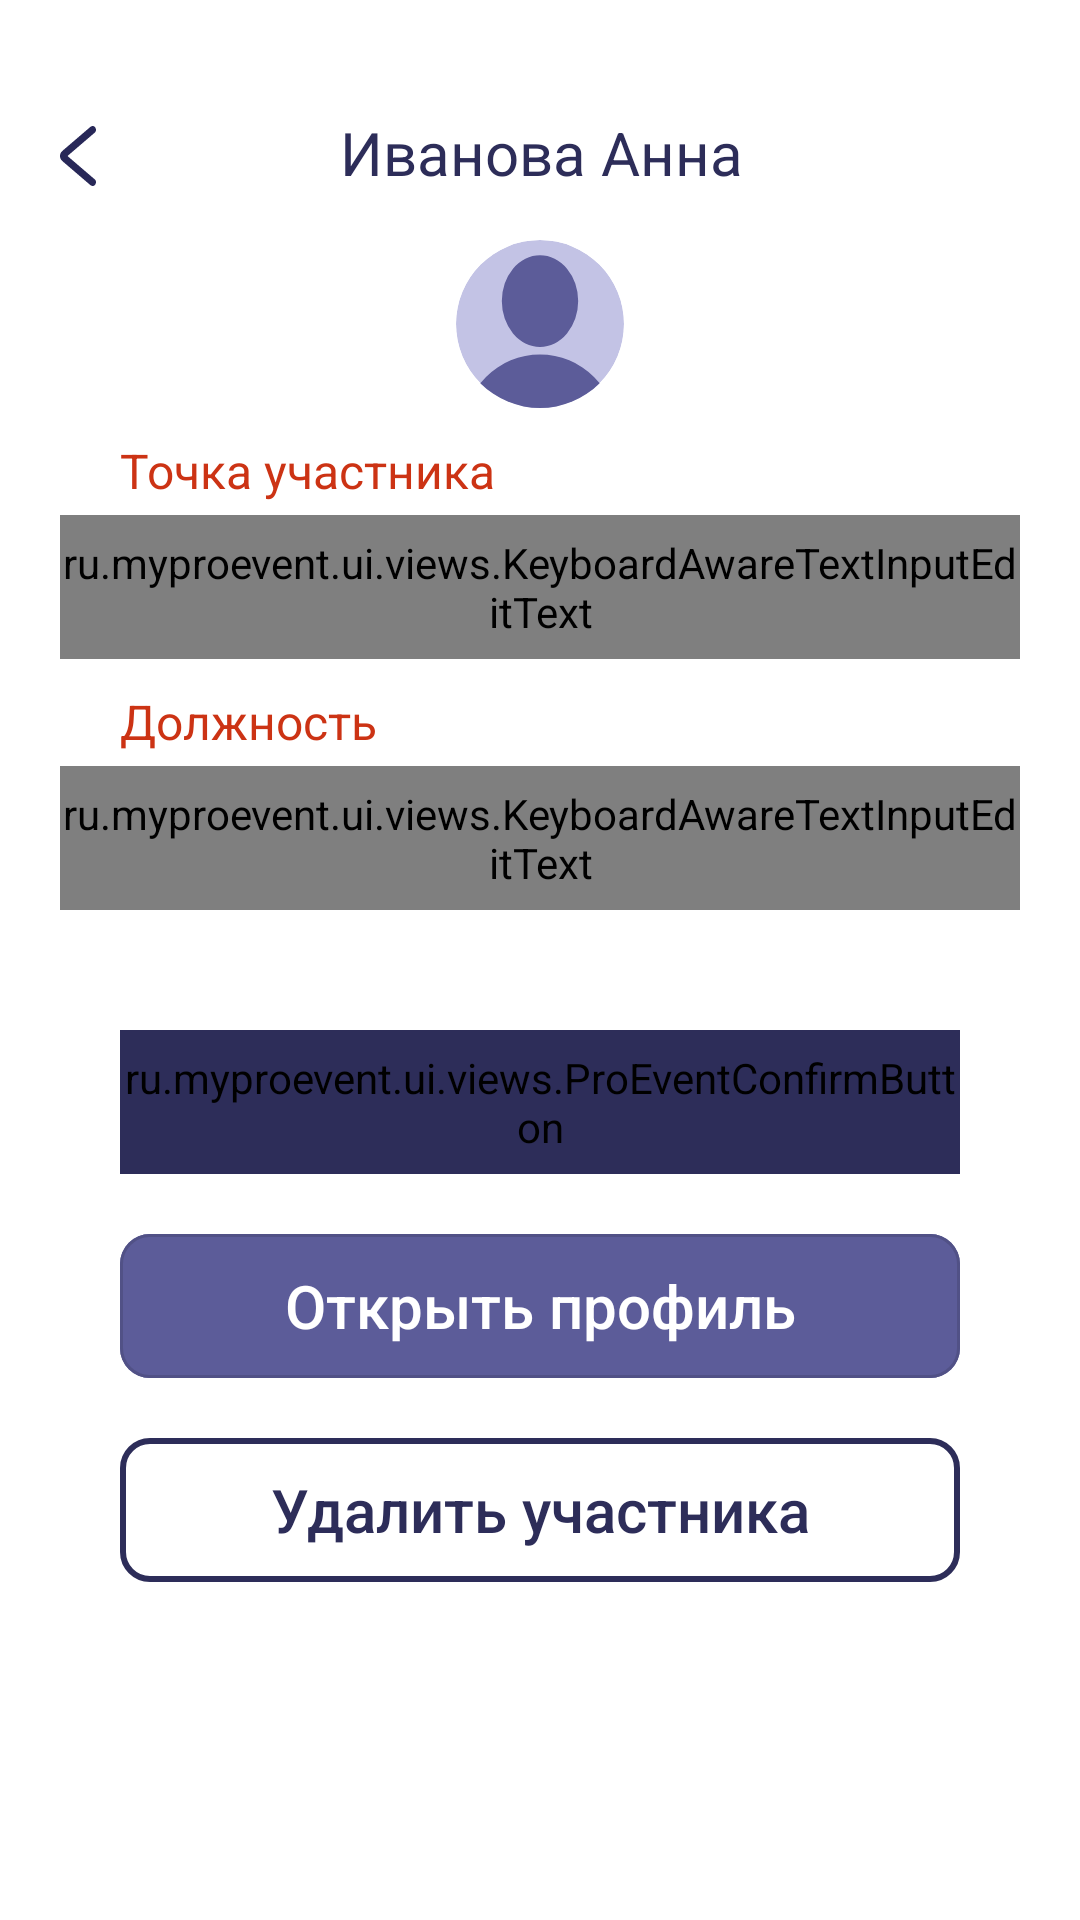

Icon bounding boxes for this 1080px×1920px phone screenshot, format (x1, y1, x2, y2):
back to: (60, 126, 96, 186)
